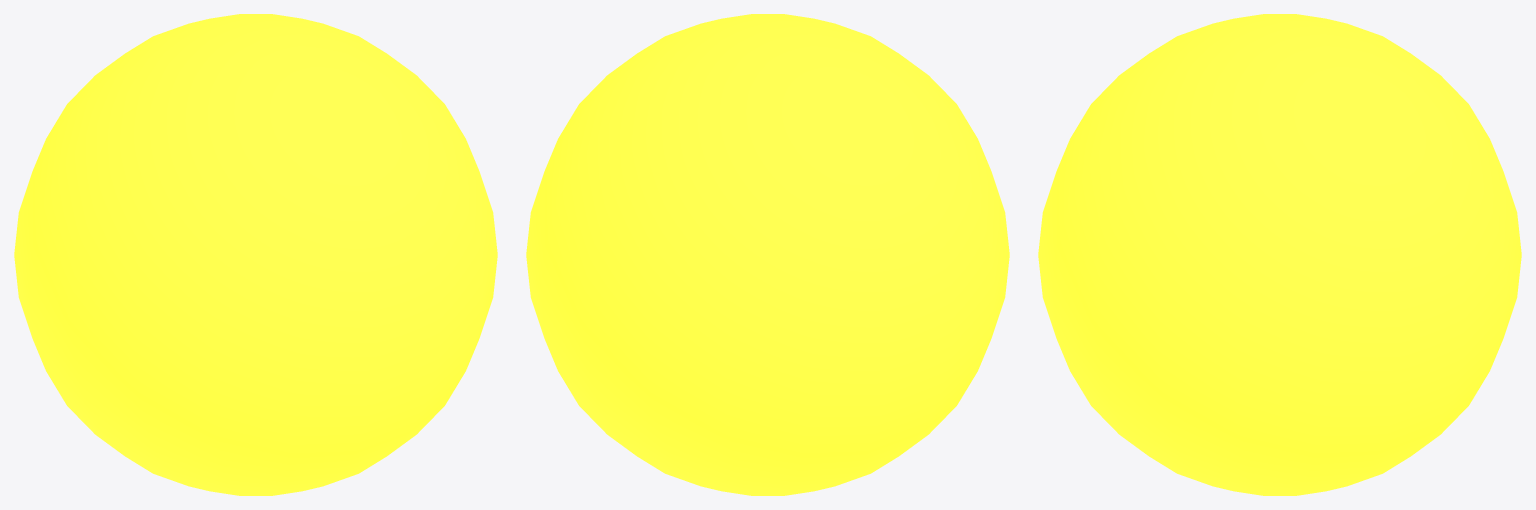
Rendered from alien orb.fbx.
The picture shows the model from 3 angles, left to right: view 1: azimuth 30°, elevation 25°; view 2: azimuth 150°, elevation 25°; view 3: azimuth 270°, elevation 25°; orthographic projection.
Visible parts, largest first — view 1: Sphere; view 2: Sphere; view 3: Sphere.
Part boxes in pixels (x1,y1,x2,y2): Sphere: (14, 14, 497, 495); Sphere: (526, 14, 1009, 495); Sphere: (1038, 14, 1521, 495).
Bounding box in the file's own units: 9.71 × 9.86 × 9.86.
